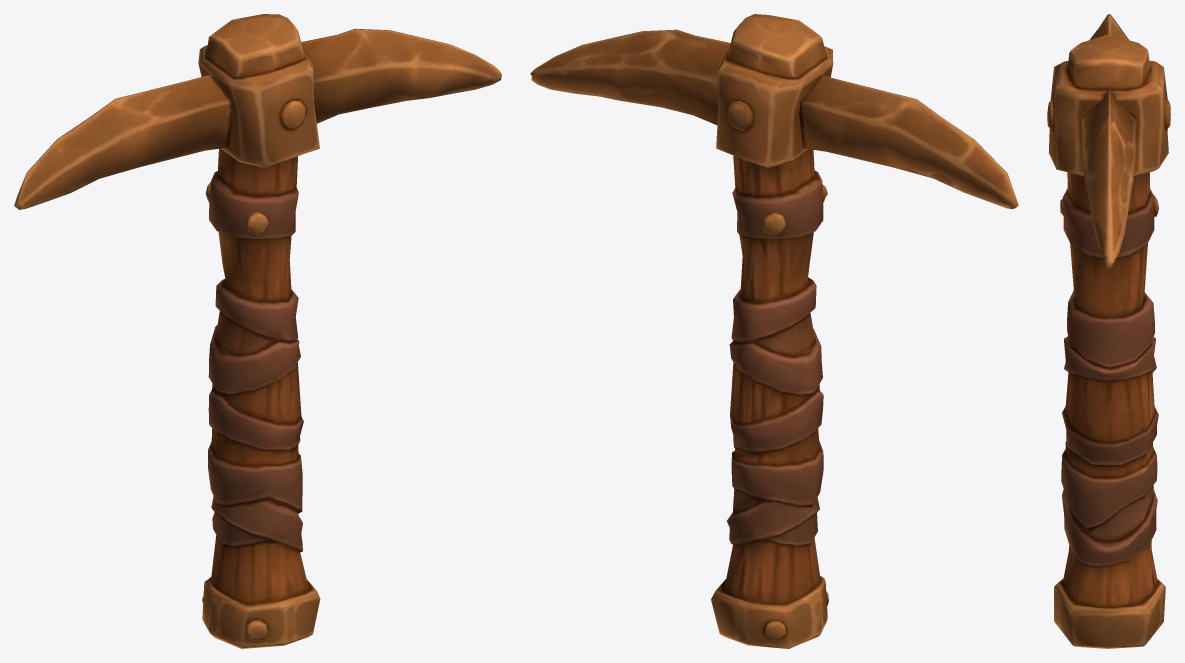
Rendered from pioche.glb.
3 views of the same model, side by side, from view 1: azimuth 30°, elevation 25°; view 2: azimuth 150°, elevation 25°; view 3: azimuth 270°, elevation 25° (orthographic). The views are drawn at different scales.
Visible parts, largest first — view 1: geometry_0; view 2: geometry_0; view 3: geometry_0.
Part boxes in pixels (x1,y1,x2,y2): geometry_0: [14, 14, 501, 648]; geometry_0: [530, 14, 1018, 648]; geometry_0: [1047, 14, 1170, 648].
Size of the model in its own units: 0.7954 by 0.9517 by 0.1811.
1 material, 1 textured.
